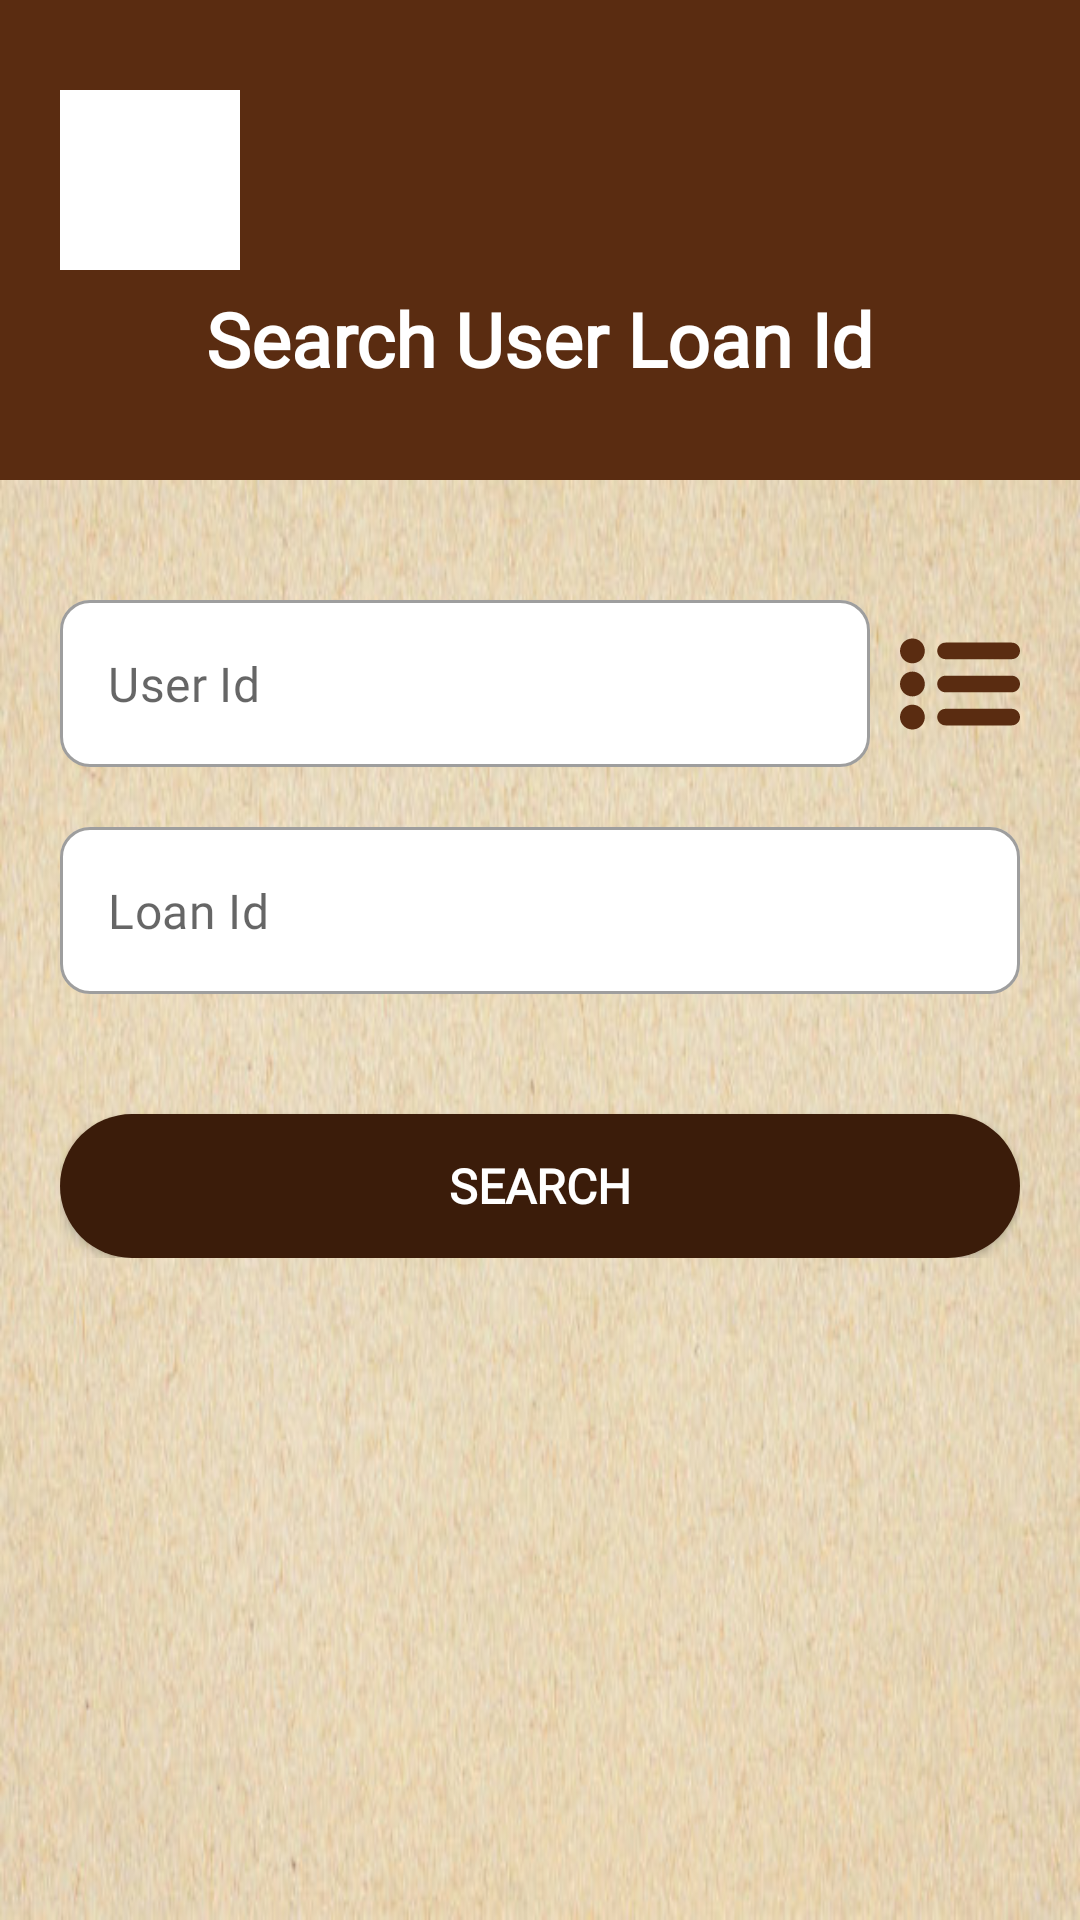

Locate icon controls on the screen. Image size 1080 x 1920, boxes as (x1, y1, x2, y2).
list: (900, 638, 1020, 743)
